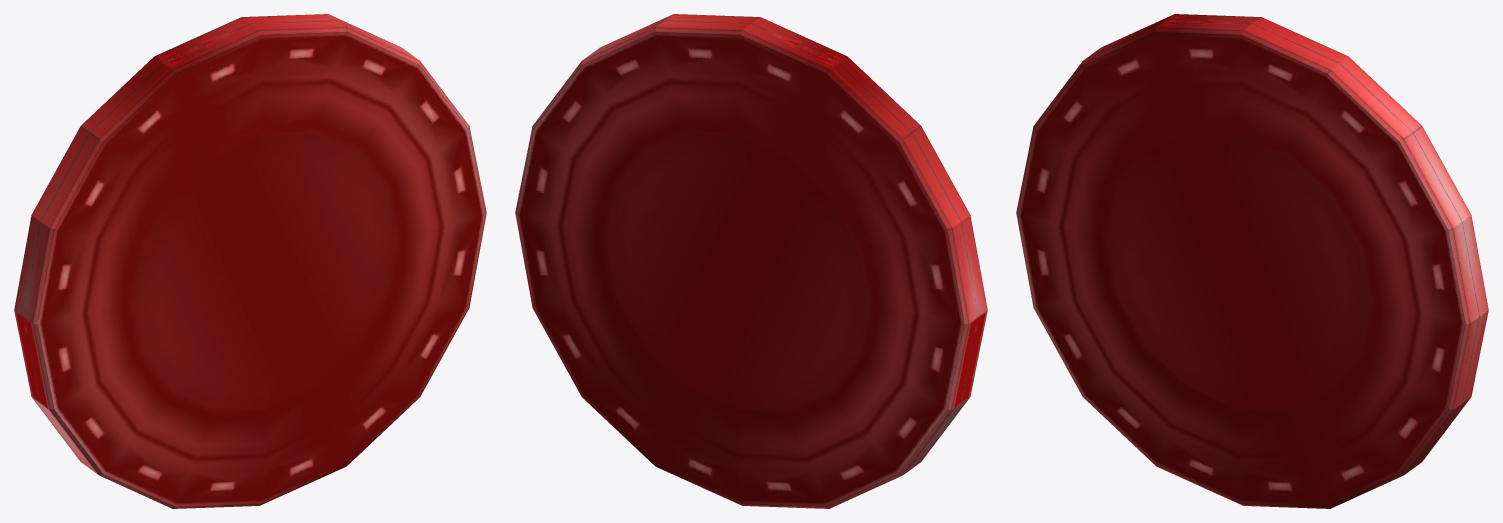
File: chip.obj
3 views of the same model, side by side, from view 1: azimuth 30°, elevation 25°; view 2: azimuth 150°, elevation 25°; view 3: azimuth 330°, elevation 25° (orthographic).
Visible parts, largest first — view 1: realgamechip; view 2: realgamechip; view 3: realgamechip.
Boxes of the visible parts, bbox=[...] form: realgamechip: bbox=[14, 14, 486, 508]; realgamechip: bbox=[515, 14, 987, 508]; realgamechip: bbox=[1016, 14, 1488, 508].
Bounding box in the file's own units: 24 × 24 × 2.64.
1 material, 1 textured.
